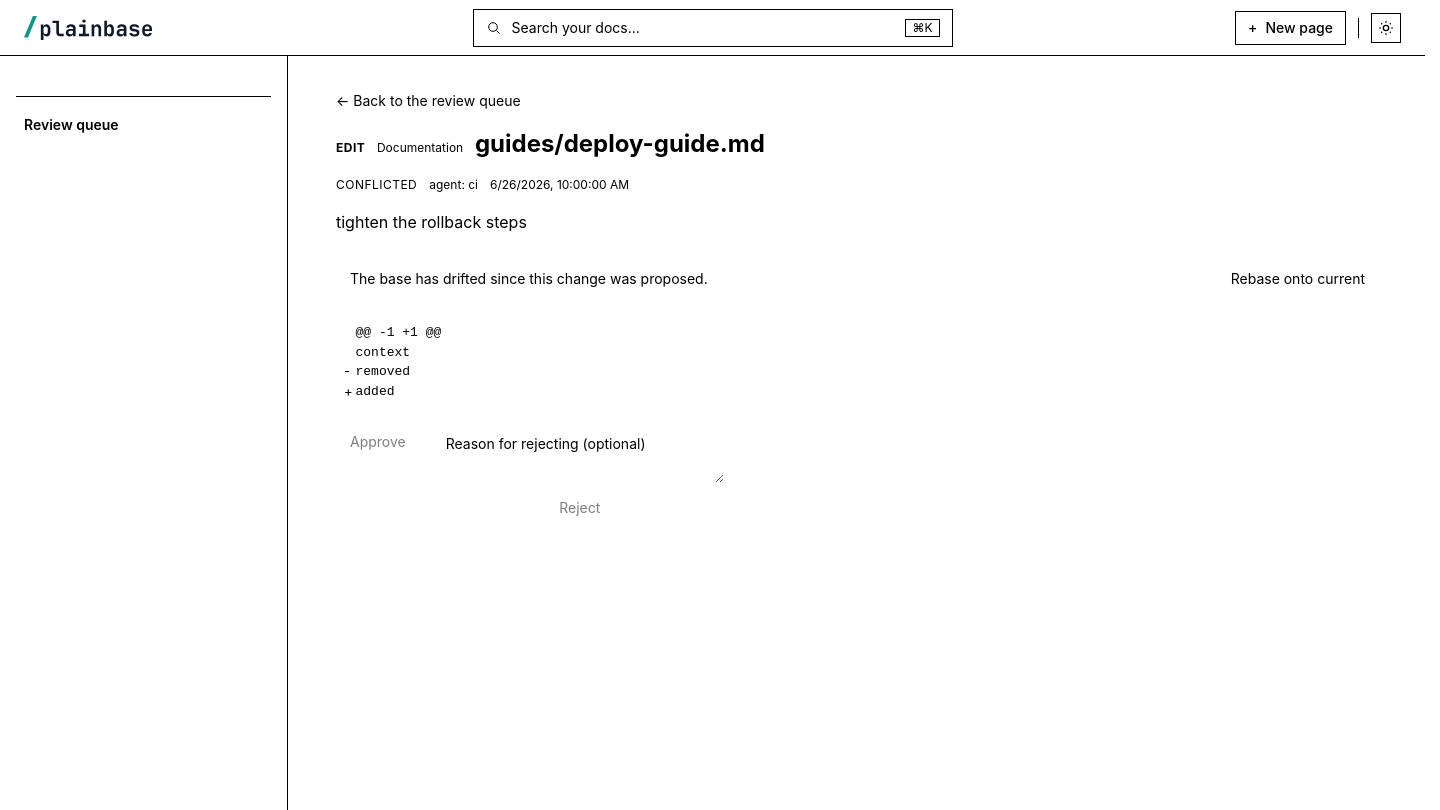
Test: review detail › clicking Rebase POSTs /rebase, then the refetch flips to PENDING — approve re-enables, rebase disappears
Click the button "Rebase onto current": x=1298, y=278 [1217, 262, 1379, 295]
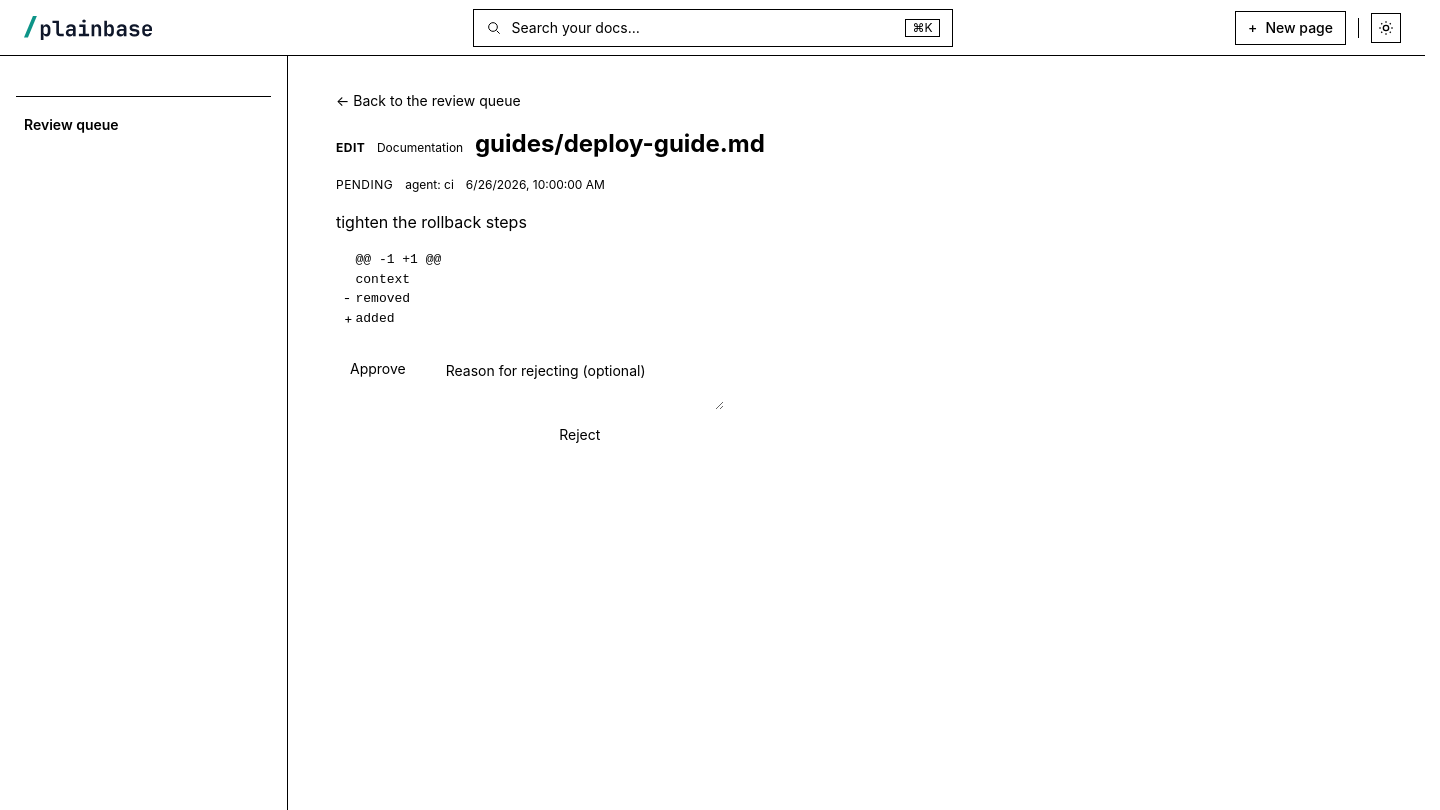
Expected: the button "Approve" is enabled, [336, 352, 420, 385]
